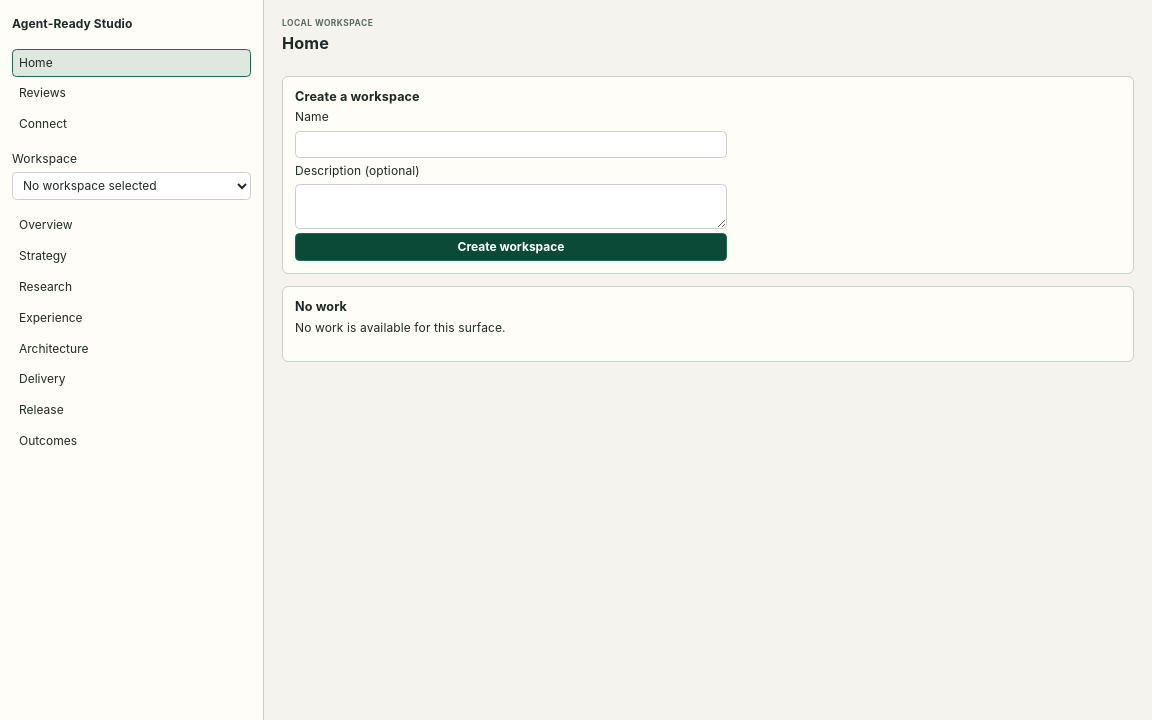
Test: App › creates, seeds, and runs a transformation through the preload boundary
Expected: the heading "No work" is shown, [295,299,347,314]
In the field labelled "Name": {"x": 511, "y": 145} [295,131,727,158], type "Product team"
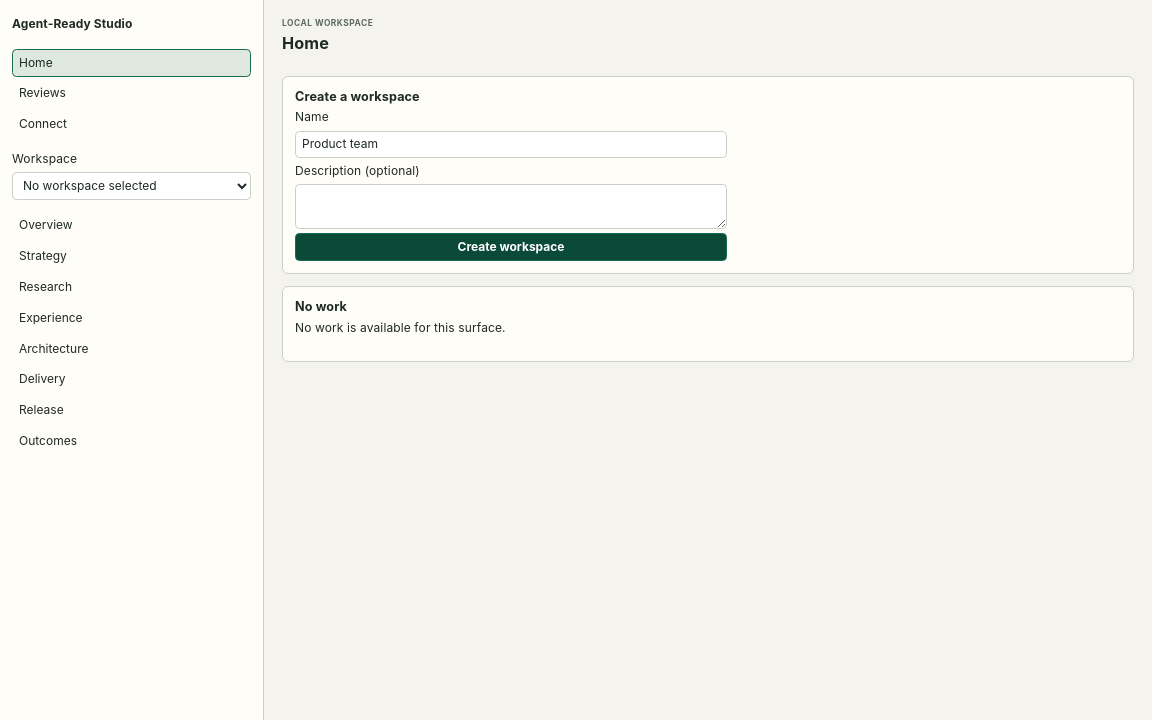
In the text box labelled "Description (optional)": {"x": 511, "y": 207} [295,184,727,229], type "Decisions for the desktop product"
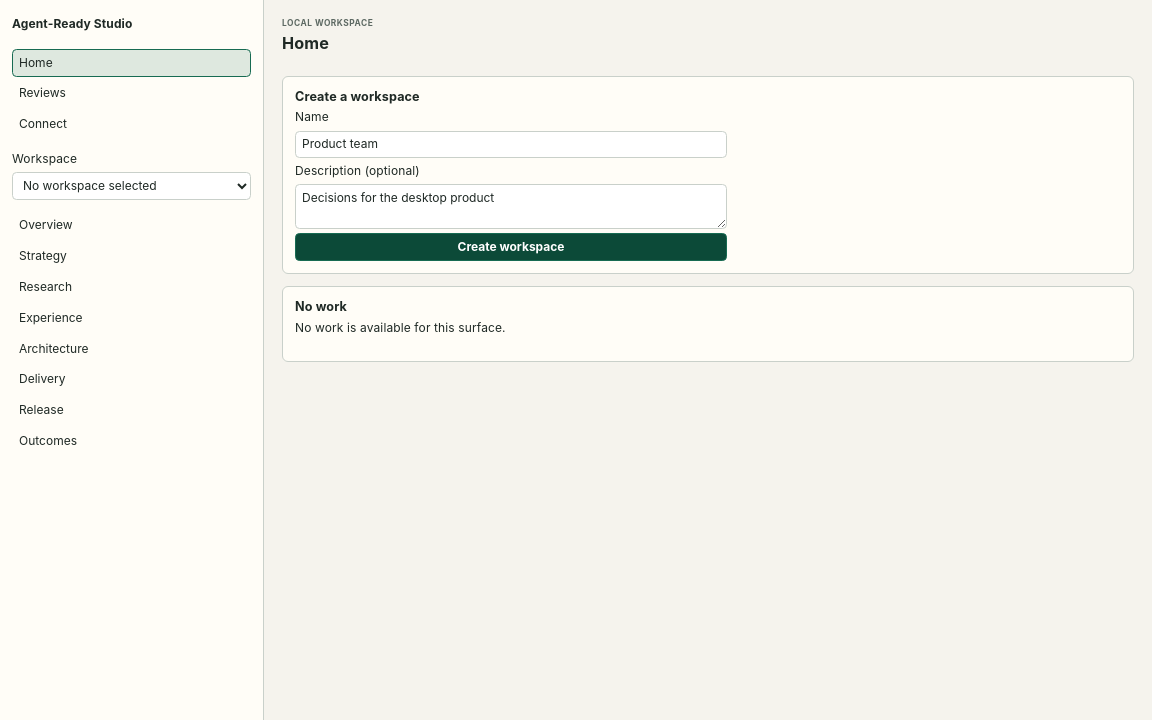
Click the button "Create workspace": {"x": 511, "y": 247} [295,233,727,261]
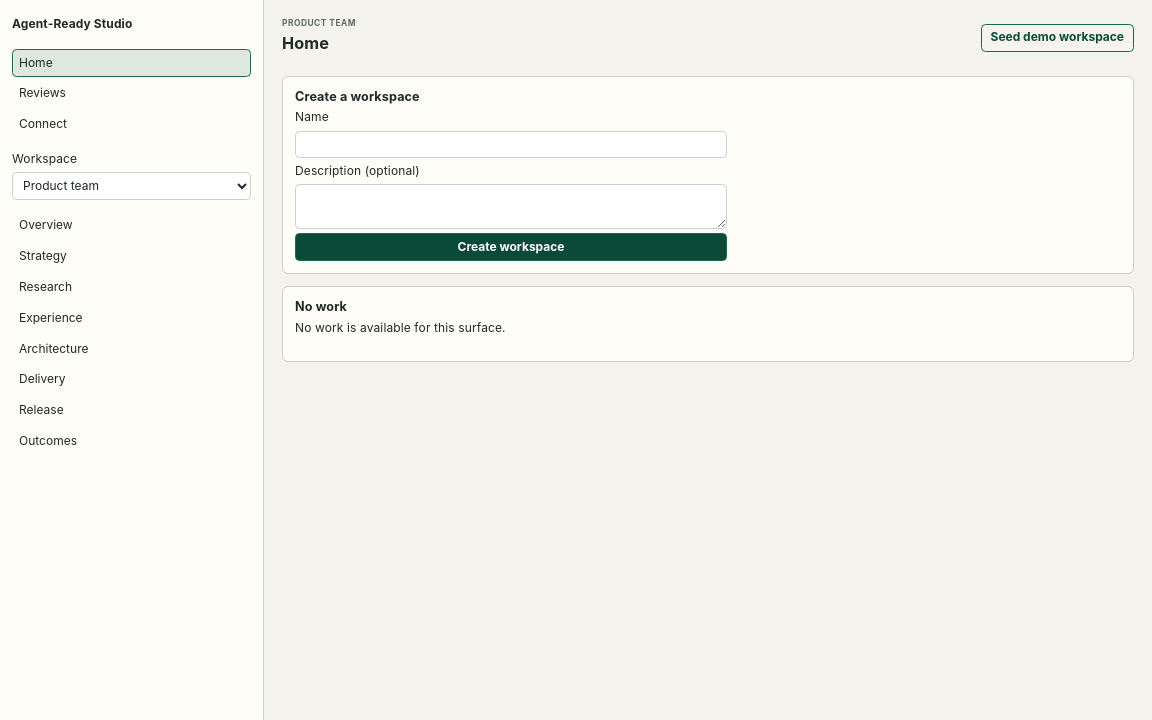
Expected: the text "Build Agent-Ready Studio" is not shown
Click the button "Seed demo workspace": {"x": 1057, "y": 38} [981,24,1134,52]
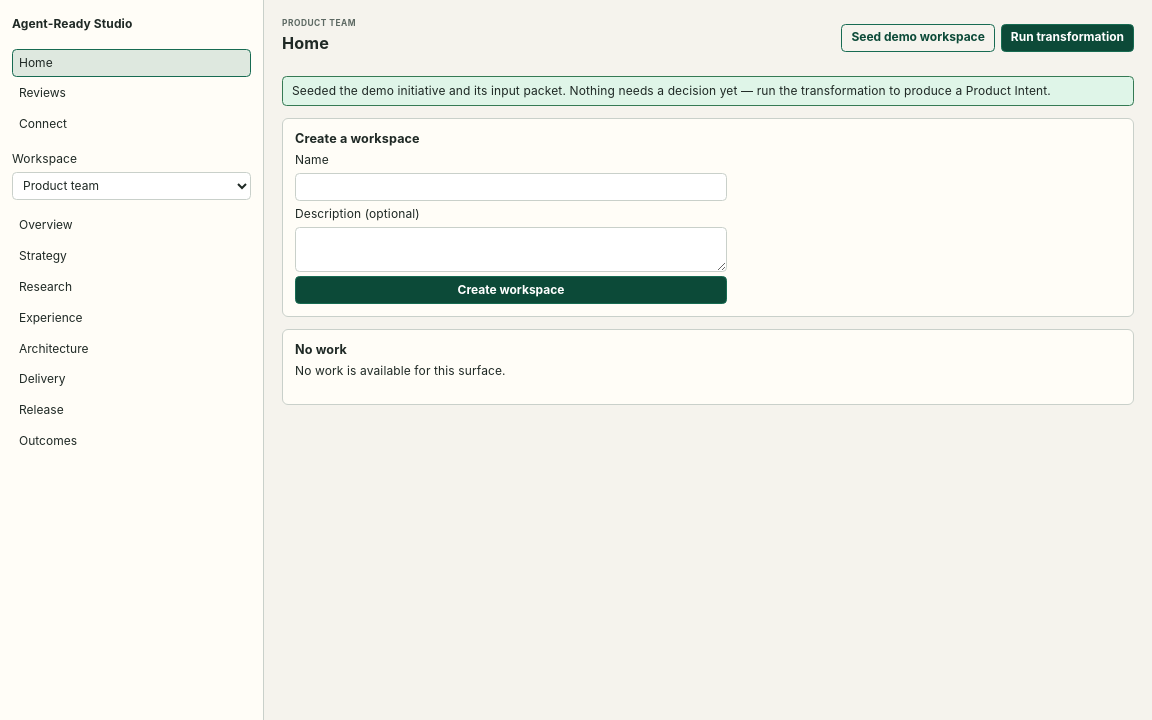
Expected: the text "Build Agent-Ready Studio" is not shown
Click the button "Run transformation": {"x": 1067, "y": 38} [1001,24,1134,52]
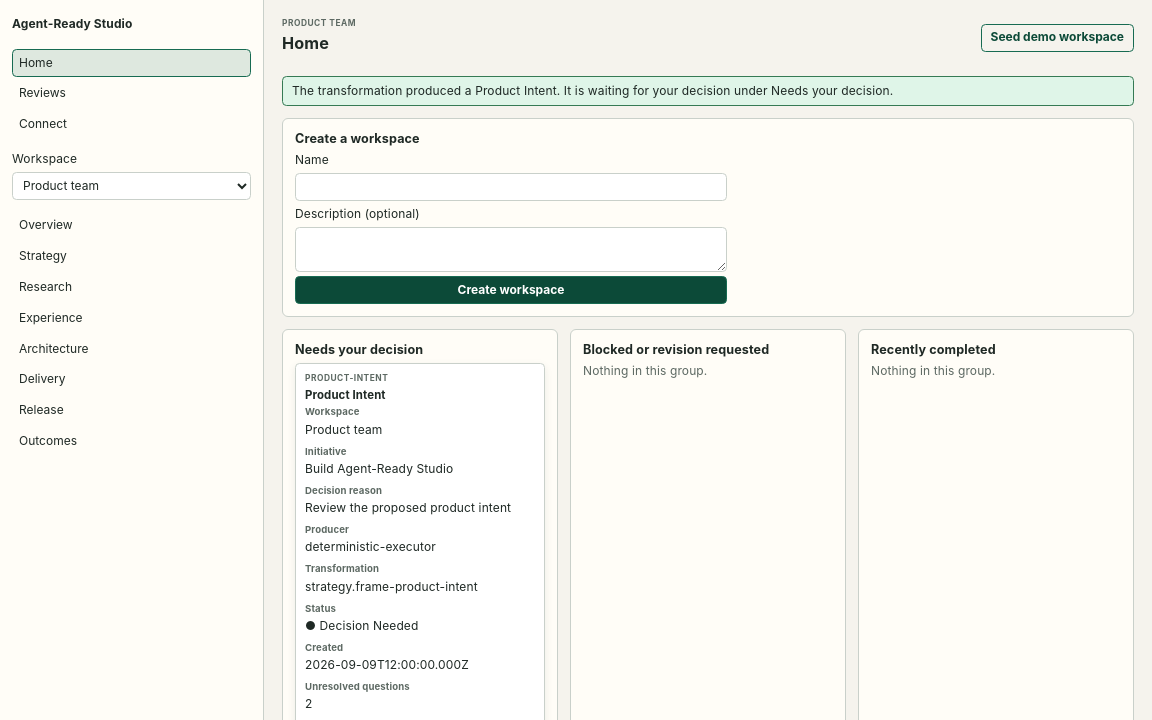
Expected: the text "Build Agent-Ready Studio" is shown, [305,461,453,476]
